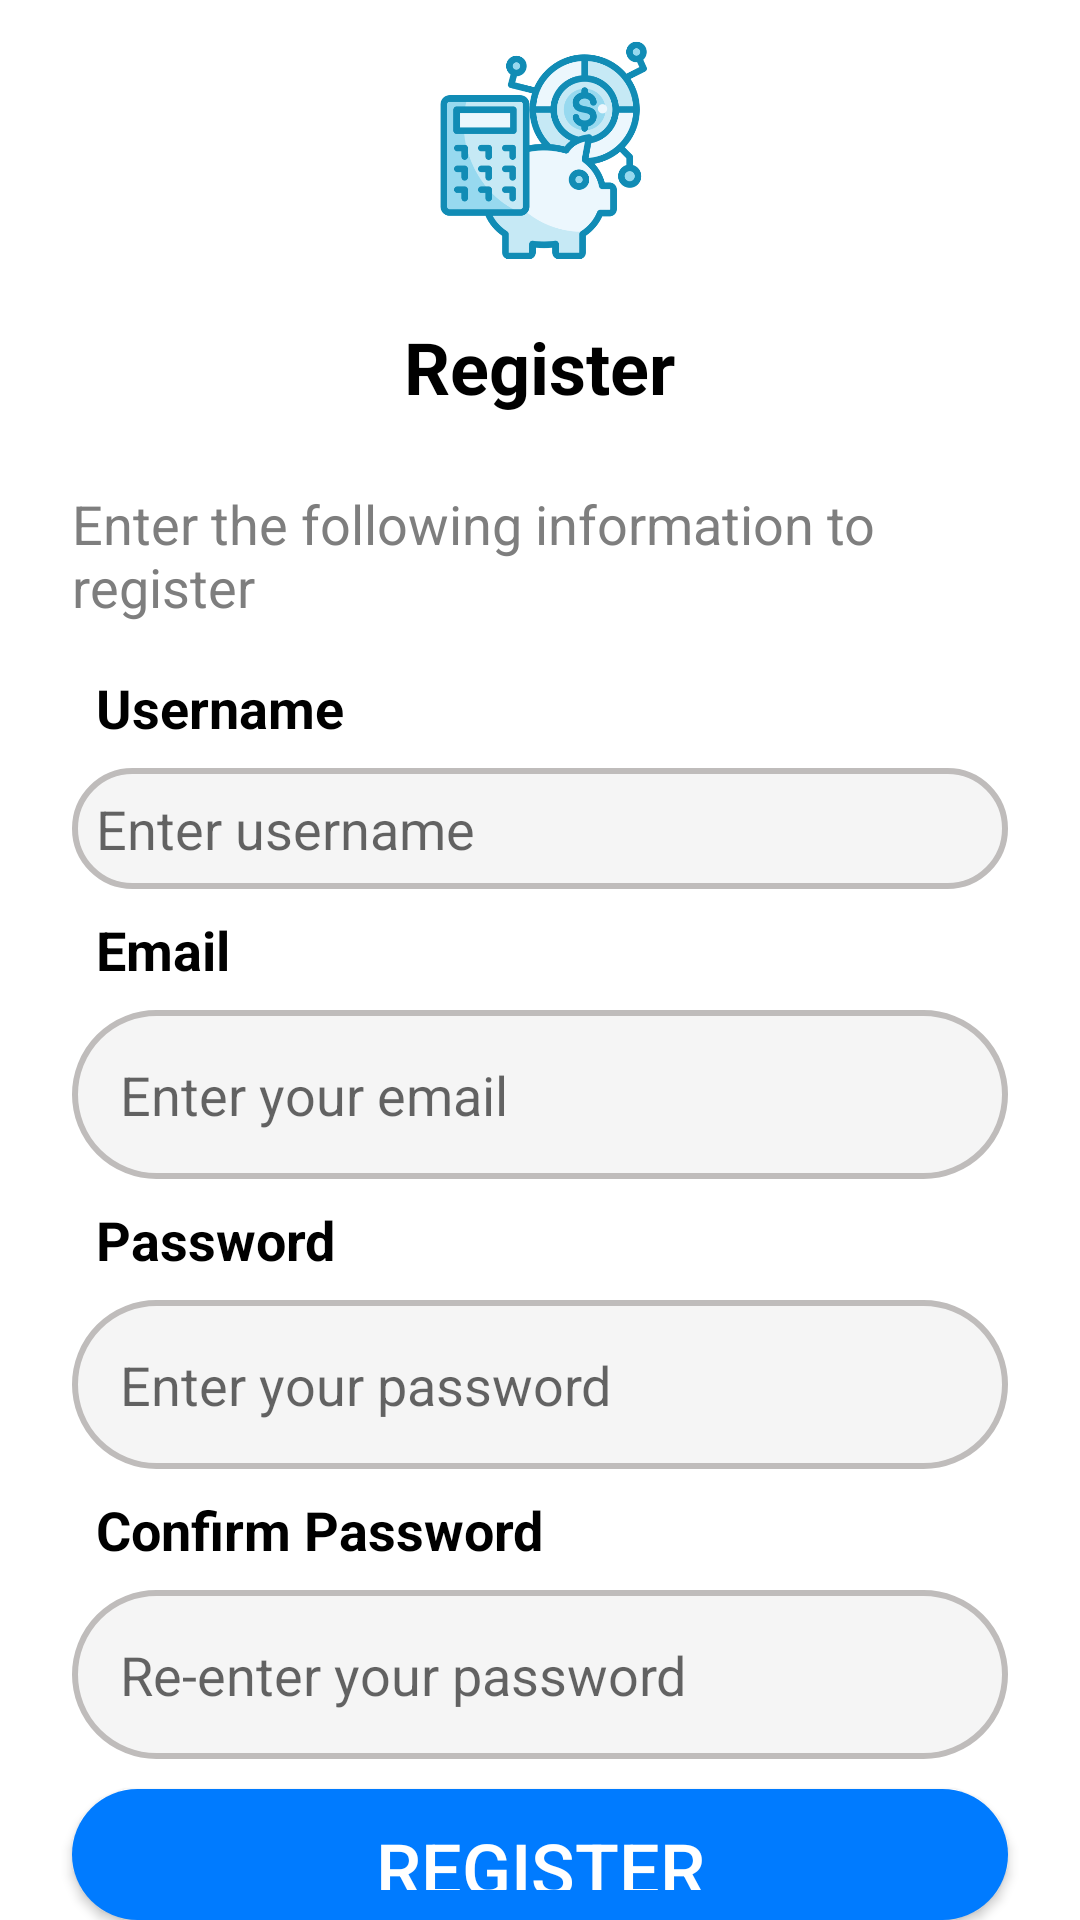

Icons on this 1080 × 1920 Android screen, each with the point to tap as point (x, y):
Illustration: point (543, 150)
